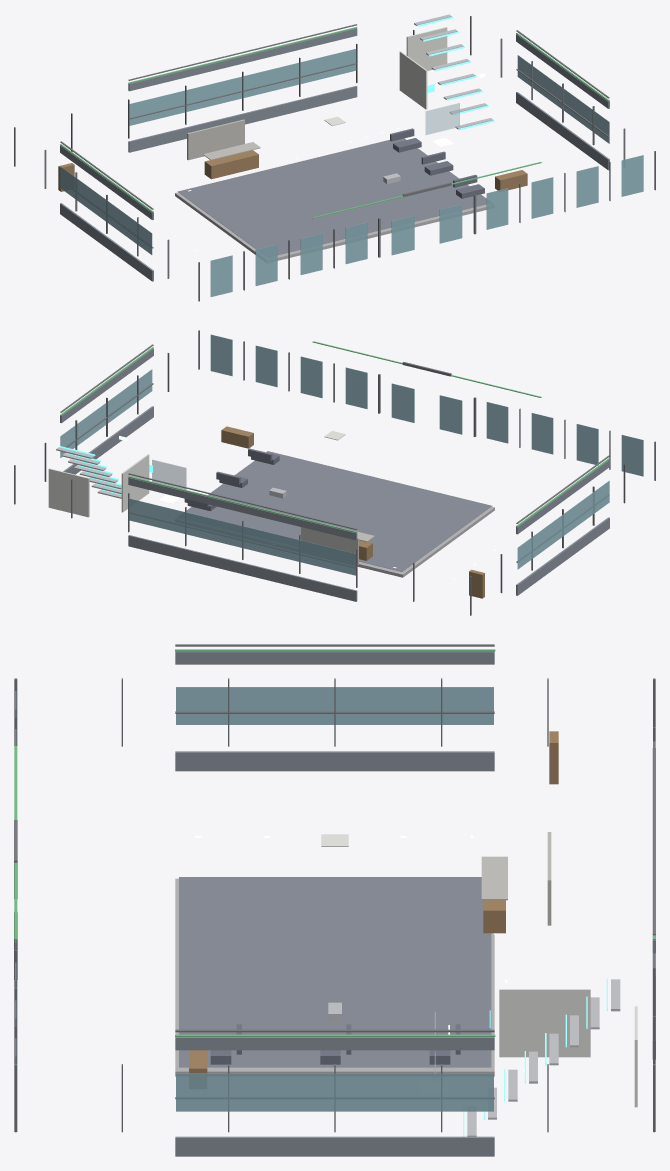
Rendered from Floor_01_Lobby.fbx.
3 renders of one model, top to bottom at view 1: azimuth 30°, elevation 25°; view 2: azimuth 150°, elevation 25°; view 3: azimuth 270°, elevation 25°, orthographic. The views are drawn at different scales.
Parts seen in each view (by area): view 1: Floor_01_Lobby; view 2: Floor_01_Lobby; view 3: Floor_01_Lobby.
Boxes of the visible parts, <box> form: Floor_01_Lobby: <box>14,14,655,301</box>; Floor_01_Lobby: <box>14,330,655,615</box>; Floor_01_Lobby: <box>14,644,655,1156</box>.
Size of the model in its own units: 2007 by 345 by 1408.
